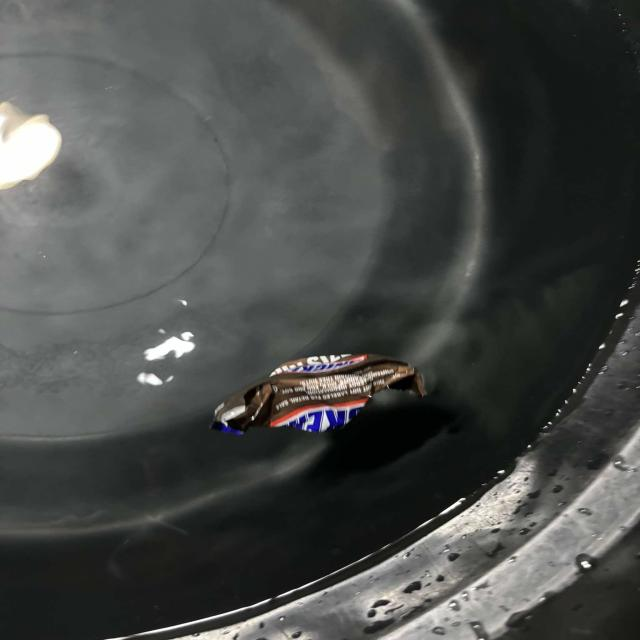Plastic Wrapper: (182, 333, 460, 453)
